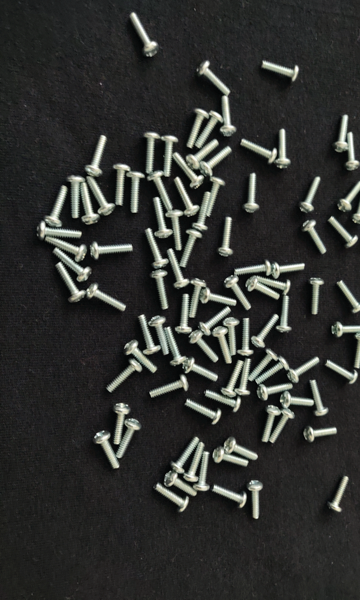shortscrew: (52, 246, 92, 282), (129, 11, 160, 57), (55, 261, 86, 303), (196, 60, 232, 96), (106, 358, 143, 393), (84, 282, 127, 312), (124, 339, 158, 375), (169, 437, 200, 474), (195, 110, 224, 149), (93, 430, 121, 470), (148, 170, 174, 213), (45, 236, 88, 262), (115, 418, 142, 459), (153, 483, 189, 513), (87, 177, 114, 216), (43, 185, 68, 227), (255, 355, 290, 385), (143, 230, 169, 270), (328, 216, 359, 249), (248, 349, 278, 383), (251, 313, 280, 348), (198, 307, 232, 336), (224, 275, 252, 310), (300, 219, 327, 255), (202, 177, 226, 217), (87, 134, 109, 177), (186, 108, 209, 149), (179, 230, 203, 269), (185, 398, 221, 424), (241, 139, 278, 164), (182, 357, 219, 382), (270, 407, 295, 444), (138, 315, 161, 355), (164, 326, 187, 366), (149, 375, 189, 398), (298, 177, 322, 215), (183, 442, 205, 483), (287, 356, 320, 383), (164, 471, 198, 497), (192, 191, 213, 233), (36, 222, 82, 241), (149, 315, 170, 356), (221, 361, 244, 398), (224, 437, 258, 462), (153, 198, 173, 240), (213, 485, 248, 509), (261, 59, 299, 81), (205, 390, 241, 413), (90, 242, 133, 261), (246, 277, 280, 301), (337, 279, 360, 314), (150, 271, 170, 311), (328, 476, 349, 514), (212, 326, 233, 364), (112, 403, 131, 445), (161, 134, 179, 178), (261, 404, 281, 443), (242, 173, 261, 214), (212, 447, 249, 468), (127, 171, 145, 214), (113, 163, 131, 206), (82, 182, 100, 225), (326, 361, 358, 385), (68, 175, 85, 219), (200, 287, 237, 307), (338, 180, 360, 213), (274, 129, 292, 169), (143, 132, 160, 174), (222, 317, 240, 356), (258, 382, 293, 402), (220, 96, 237, 137), (333, 113, 350, 154), (217, 216, 234, 257), (167, 210, 184, 251), (248, 480, 265, 520), (193, 451, 210, 491), (311, 380, 329, 417), (234, 260, 272, 277), (257, 277, 291, 296), (235, 359, 252, 396), (271, 262, 305, 280), (276, 295, 292, 333), (345, 132, 360, 172), (303, 426, 338, 443), (239, 317, 254, 356), (280, 392, 314, 409), (311, 277, 324, 315), (332, 322, 360, 337), (352, 189, 360, 225), (353, 333, 360, 370)
